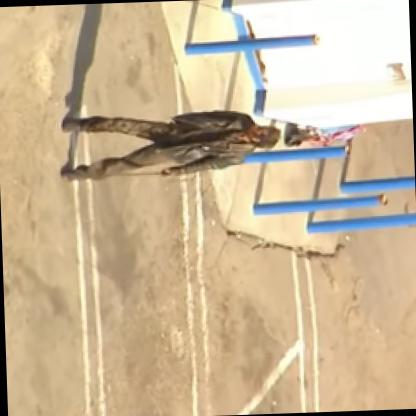Human Body: (60, 102, 284, 185)
